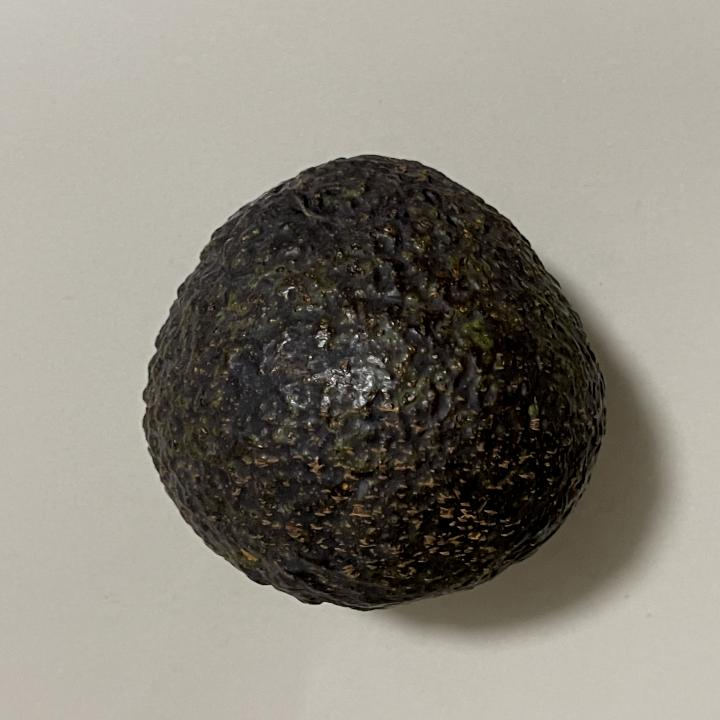Level2: (133, 146, 616, 616)
